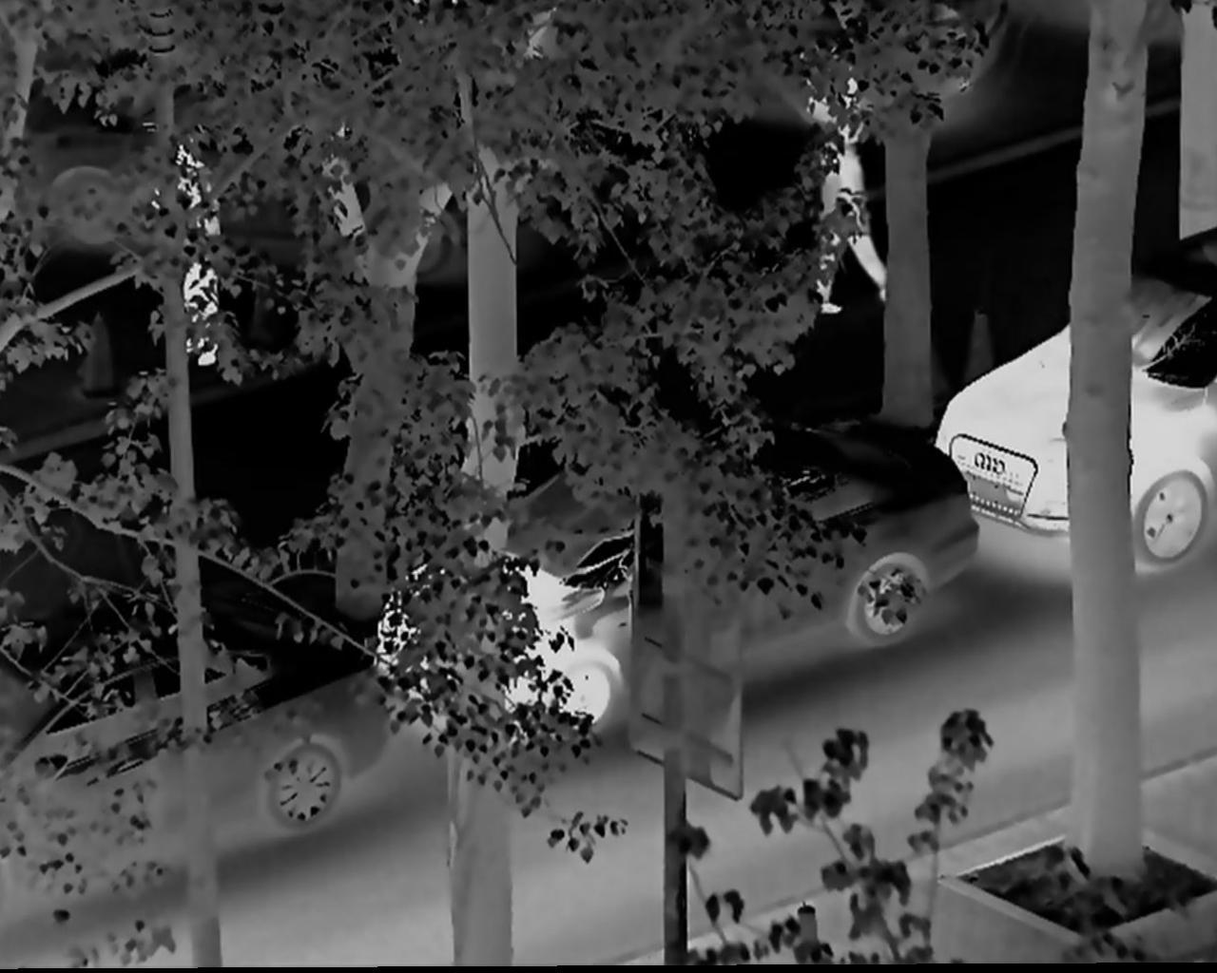person: (805, 96, 893, 318), (167, 147, 243, 350)
